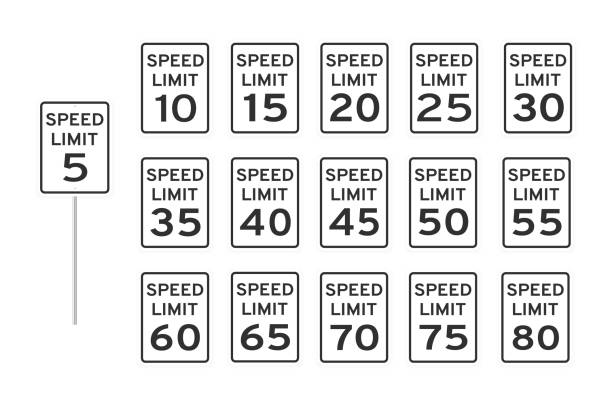SpeedLimitSign: (36, 99, 111, 196), (316, 39, 390, 135), (138, 153, 211, 249), (137, 268, 210, 364), (228, 268, 300, 365), (138, 40, 211, 135), (227, 40, 300, 135), (501, 40, 574, 135), (227, 155, 300, 250), (317, 154, 390, 249), (406, 154, 479, 249), (499, 154, 572, 249), (317, 269, 390, 364), (407, 40, 480, 134), (498, 269, 571, 363), (406, 271, 478, 364)
